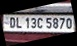character: (65, 17, 72, 29), (9, 16, 15, 28), (45, 17, 51, 29), (52, 17, 58, 29), (15, 17, 21, 28), (30, 17, 36, 28), (36, 17, 42, 28), (59, 17, 65, 28), (24, 16, 29, 29)
